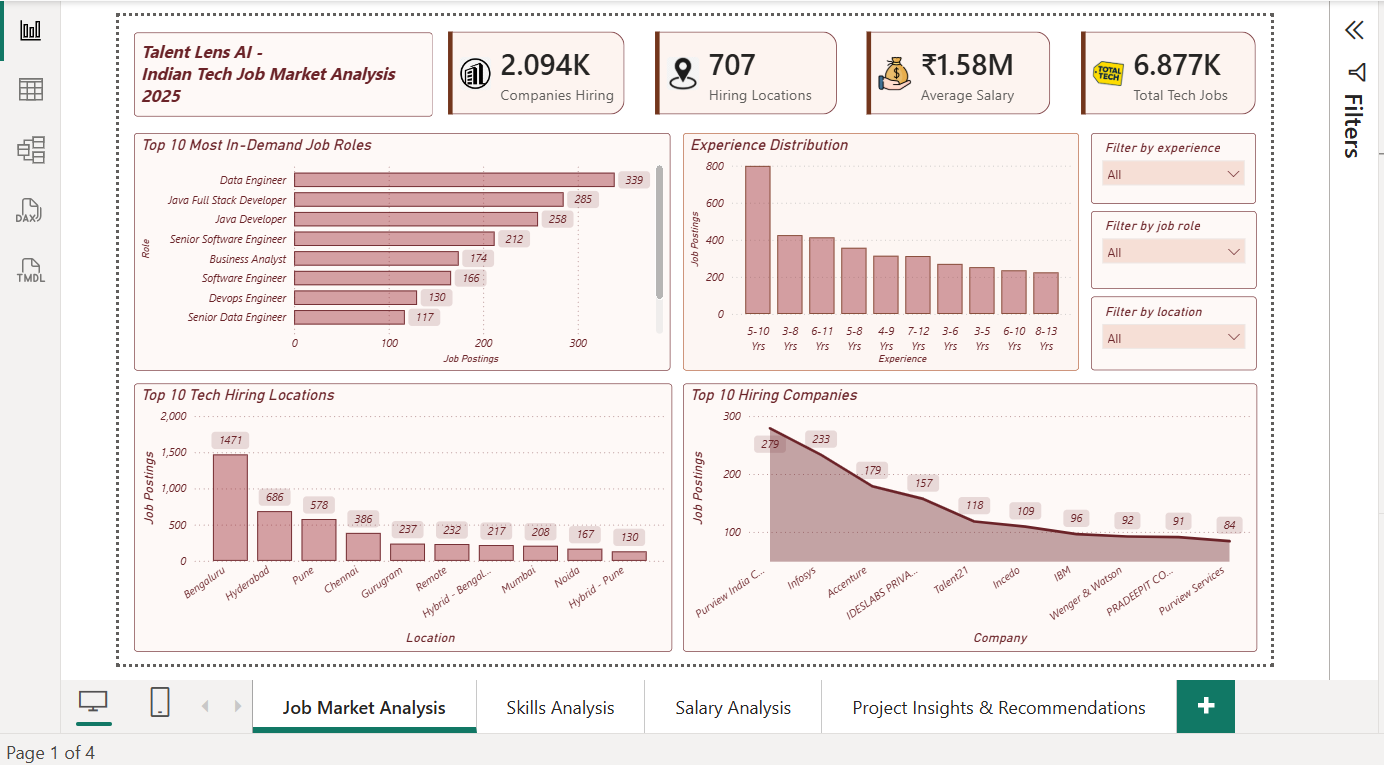

Layout of this report page (visuals, bound fields, positions):
{"tool":"powerbi","page":{"name":"Job Market Analysis","canvas":[1280,720],"ordinal":0},"visuals":[{"type":"textbox","box":[16.7,18.3,331.7,93.3],"z":0},{"type":"cardVisual","fields":{"Data":["CountNonNull(Tech Jobs.title)"]},"box":[1051.7,0,228.3,126.7],"z":1000},{"type":"cardVisual","fields":{"Data":["Count(Tech Jobs.companyName)"]},"box":[348,0,230,126],"z":2000},{"type":"cardVisual","fields":{"Data":["Count(Tech Jobs.location)"]},"box":[578,0,236,126],"z":3000},{"type":"cardVisual","fields":{"Data":["Avg(Salary.averageSalary)"]},"box":[814,0,238,126],"z":4000},{"type":"areaChart","title":"Top 10 Hiring Companies","fields":{"Category":["Tech Jobs.companyName"],"Y":["CountNonNull(Tech Jobs.title)"]},"box":[626,408,638,298],"z":5000},{"type":"clusteredColumnChart","title":"Top 10 Tech Hiring Locations","fields":{"Category":["Tech Jobs.location"],"Y":["CountNonNull(Tech Jobs.title)"]},"box":[16,408,598,298],"z":6000},{"type":"clusteredColumnChart","title":"Experience Distribution","fields":{"Category":["Tech Jobs.experience"],"Y":["CountNonNull(Tech Jobs.title)"]},"box":[626,130,440,264],"z":7000},{"type":"slicer","fields":{"Values":["Tech Jobs.location"]},"box":[1080,312,184,82],"z":8000},{"type":"slicer","fields":{"Values":["Tech Jobs.experience"]},"box":[1080,130,183.3,78.3],"z":9000},{"type":"barChart","title":"Top 10 Most In-Demand Job Roles","fields":{"Category":["Tech Jobs.title"],"Y":["CountNonNull(Tech Jobs.title)"]},"box":[16,130,596,264],"z":10000},{"type":"slicer","fields":{"Values":["Tech Jobs.title"]},"box":[1080,216.9,183.8,86.9],"z":11000}]}

Visuals, with their boxes on the page's 1280x720 design canvas (x1, y1, x2, y2). These are canvas units, not pixel positions in the 1384x765 screenshot, which may show the page scaled, cropped or inside an application window:
textbox: left=17, top=18, right=348, bottom=112
cardVisual - CountNonNull(Tech Jobs.title): left=1052, top=0, right=1280, bottom=127
cardVisual - Count(Tech Jobs.companyName): left=348, top=0, right=578, bottom=126
cardVisual - Count(Tech Jobs.location): left=578, top=0, right=814, bottom=126
cardVisual - Avg(Salary.averageSalary): left=814, top=0, right=1052, bottom=126
"Top 10 Hiring Companies" areaChart: left=626, top=408, right=1264, bottom=706
"Top 10 Tech Hiring Locations" clusteredColumnChart: left=16, top=408, right=614, bottom=706
"Experience Distribution" clusteredColumnChart: left=626, top=130, right=1066, bottom=394
slicer - Tech Jobs.location: left=1080, top=312, right=1264, bottom=394
slicer - Tech Jobs.experience: left=1080, top=130, right=1263, bottom=208
"Top 10 Most In-Demand Job Roles" barChart: left=16, top=130, right=612, bottom=394
slicer - Tech Jobs.title: left=1080, top=217, right=1264, bottom=304
